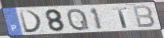1: (90, 7, 103, 31)
8: (45, 8, 66, 33)
B: (131, 5, 156, 29)
D: (18, 10, 44, 35)
Q: (66, 7, 91, 32)
T: (112, 6, 129, 29)
